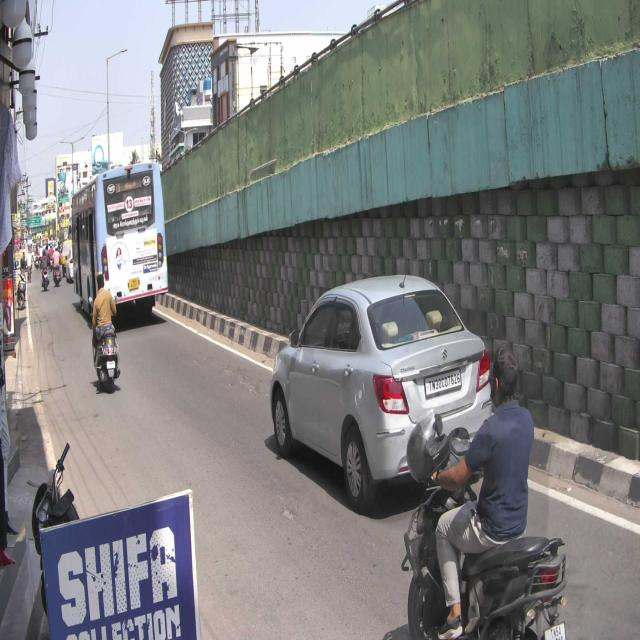single_rider: (402, 344, 571, 640)
